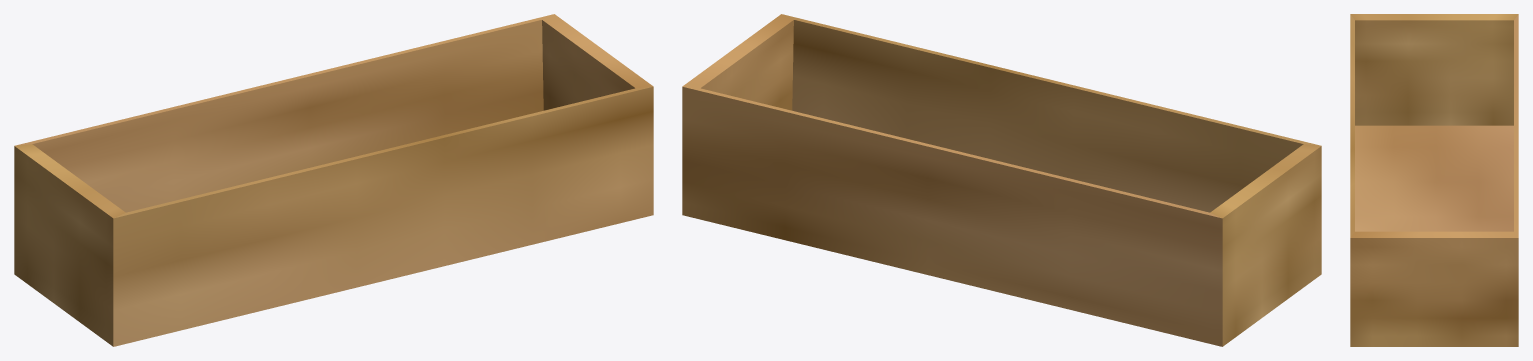
The model's file is tablewareCase.fbx.
3 renders of one model, left to right at view 1: azimuth 30°, elevation 25°; view 2: azimuth 150°, elevation 25°; view 3: azimuth 270°, elevation 25°, orthographic. The views are drawn at different scales.
Visible parts, largest first — view 1: Cube.001; view 2: Cube.001; view 3: Cube.001.
Part boxes in pixels (x1,y1,x2,y2): Cube.001: (14,14,653,346); Cube.001: (682,14,1321,346); Cube.001: (1350,14,1518,346).
Bounding box in the file's own units: 22 × 5 × 7.
